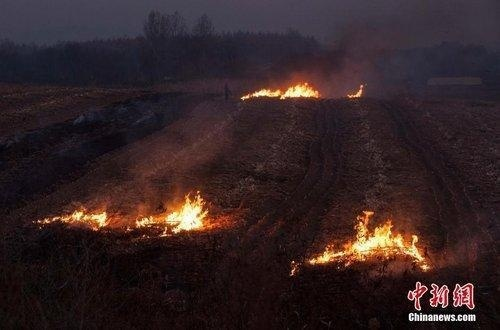fire: (37, 186, 217, 234), (304, 211, 432, 270), (239, 77, 322, 101)
